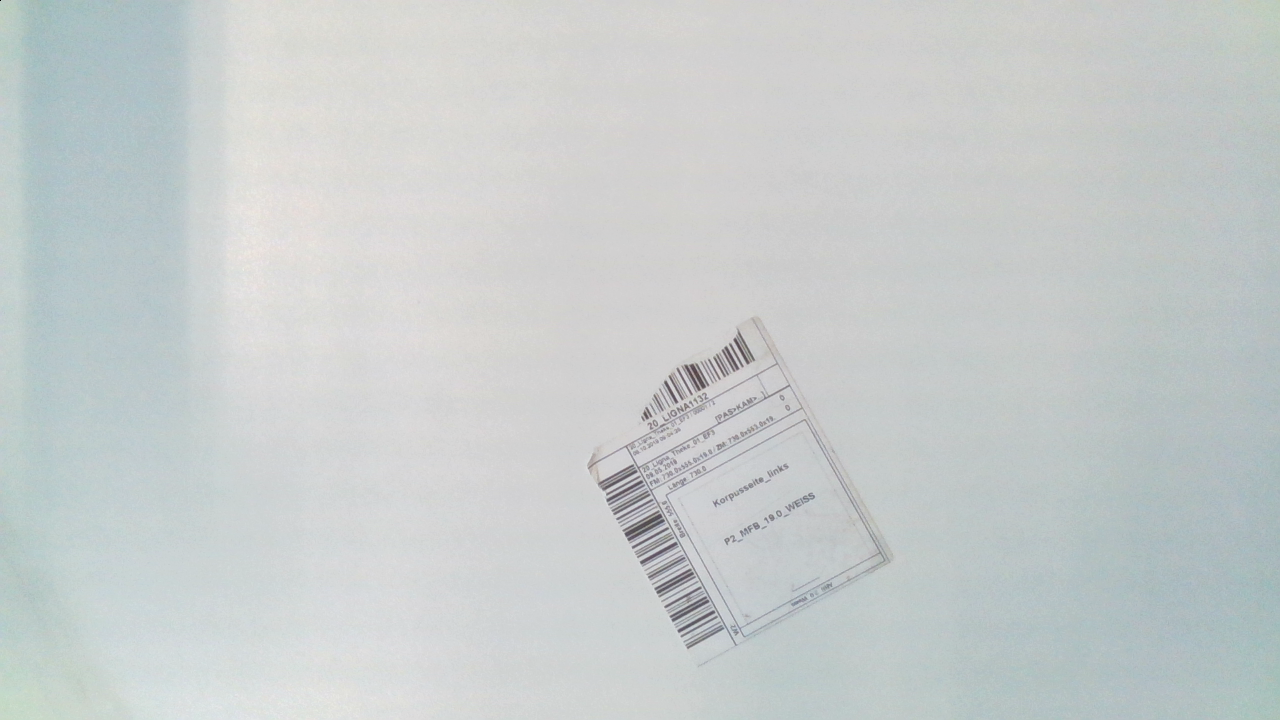barcode: (575, 298, 901, 683)
